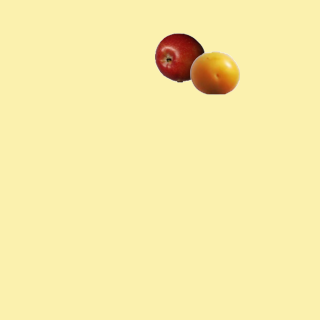Apple Braeburn: (154, 32, 204, 82)
Cherry Wax Yellow: (189, 47, 239, 97)
